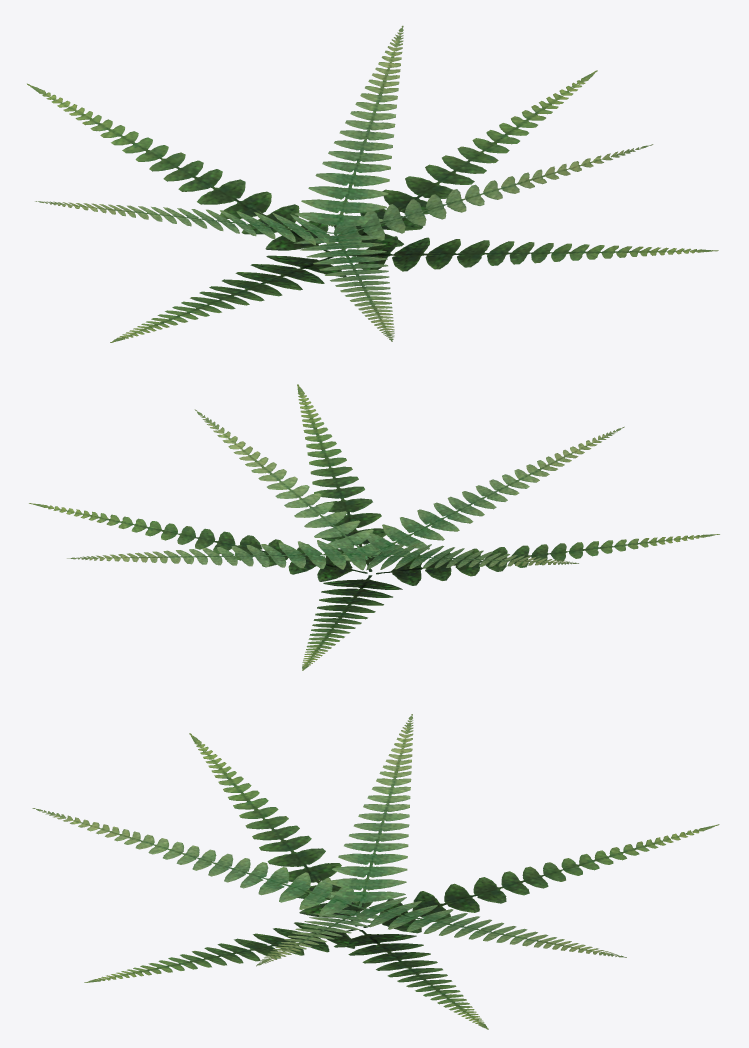
Rendered from frst_fern_green_sm_l1.fbx.
3 views of the same model, one above another, from view 1: azimuth 30°, elevation 25°; view 2: azimuth 150°, elevation 25°; view 3: azimuth 270°, elevation 25° (orthographic). The views are drawn at different scales.
Visible parts, largest first — view 1: mesh_node; view 2: mesh_node; view 3: mesh_node.
Part boxes in pixels (x1,y1,x2,y2): mesh_node: [27, 25, 718, 342]; mesh_node: [29, 384, 719, 670]; mesh_node: [32, 714, 719, 1029].
Size of the model in its own units: 1.43 by 0.2092 by 1.42.
